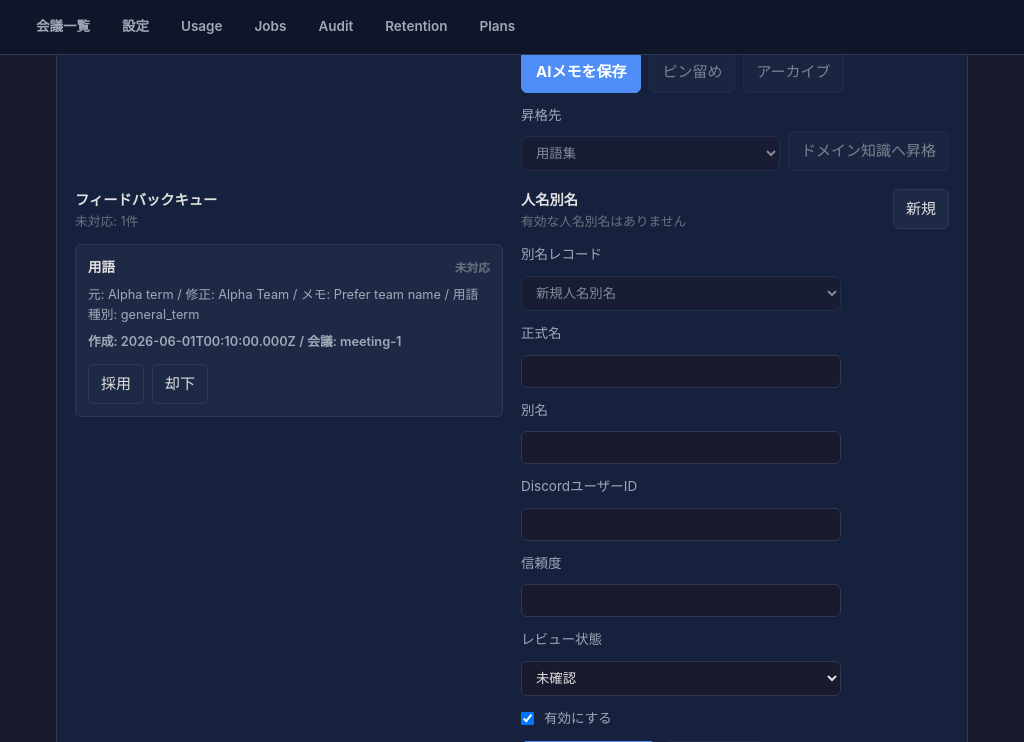
Test: App access controls › updates feedback queue status and refreshes open items
(page scrolled)
Click the button with aria-label "Alpha Team を採用" at (116, 384), box [88,364,144,404]
(page scrolled)
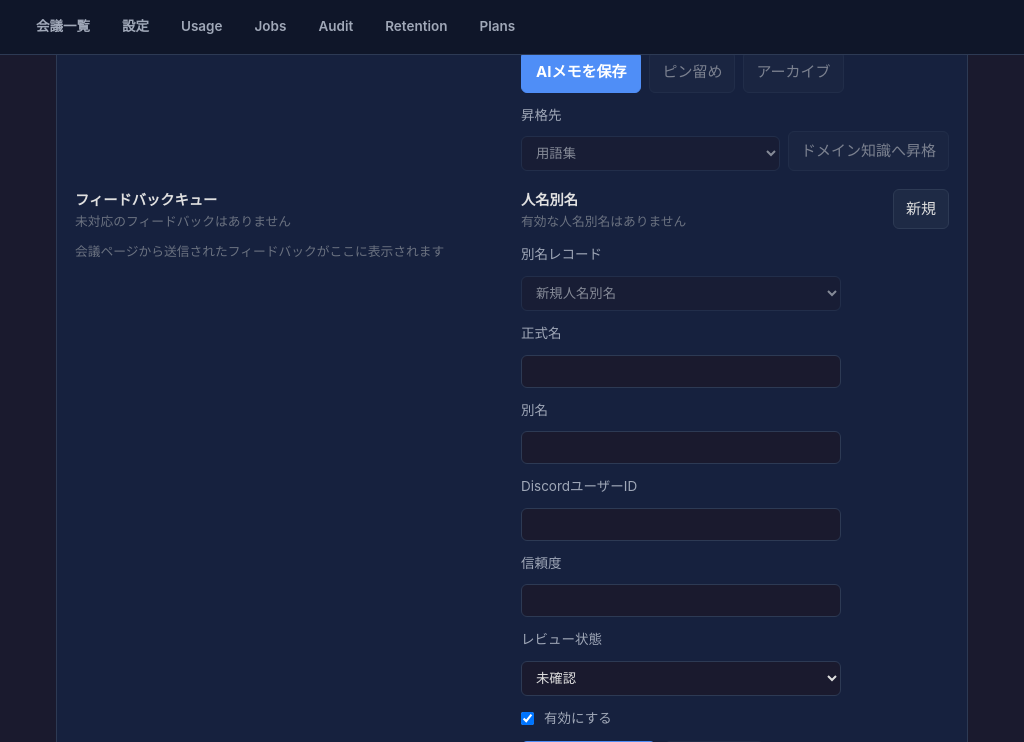
Result: the text "未対応のフィードバックはありません" is shown at [75,212,291,232]
